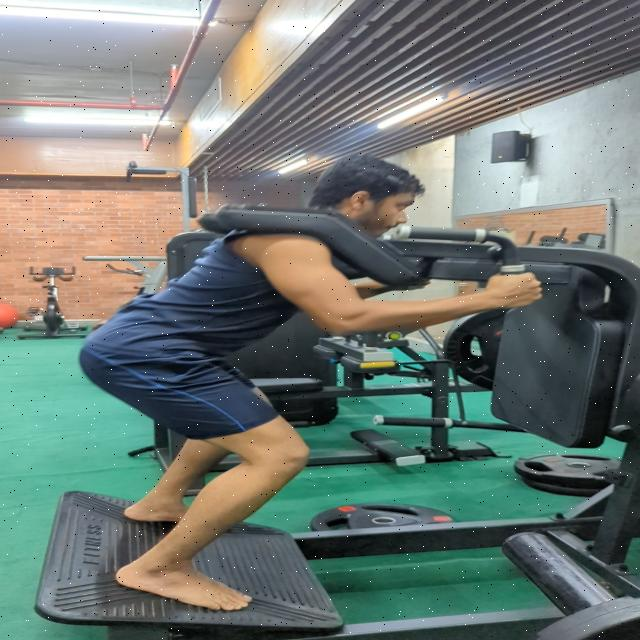Normal_SquatsWithBarbell: (47, 109, 640, 640)
